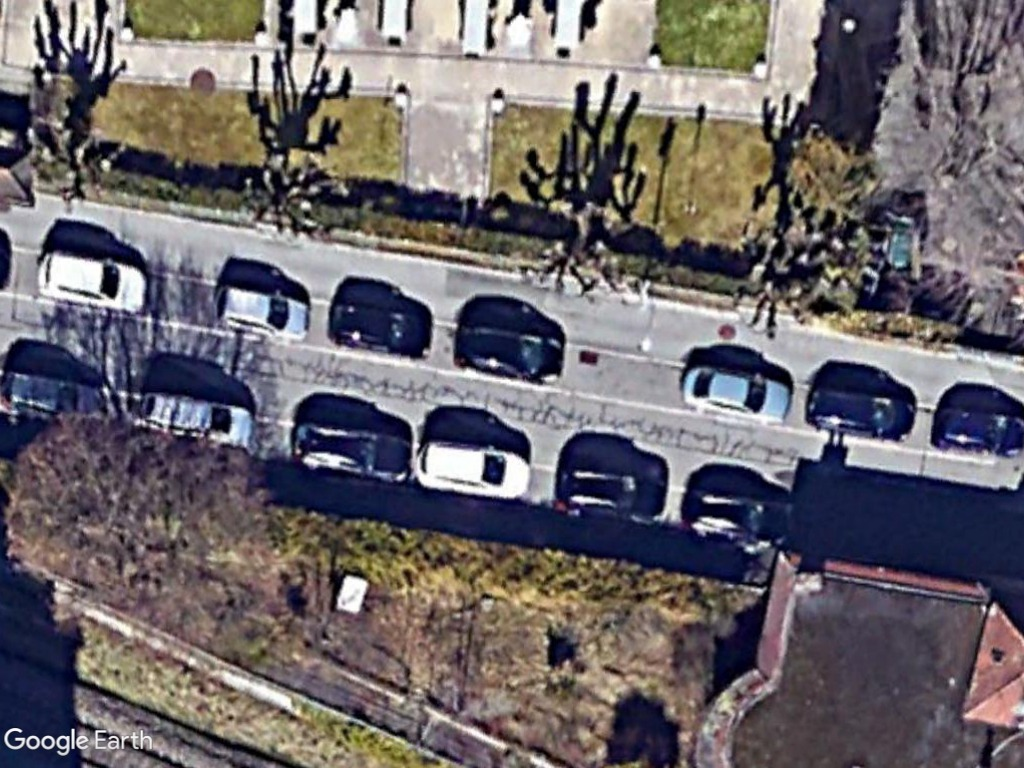car: (30, 244, 154, 318), (291, 419, 415, 487), (413, 438, 539, 504), (135, 388, 260, 453), (677, 362, 797, 428), (456, 317, 569, 386), (555, 459, 673, 523), (209, 282, 313, 343)
